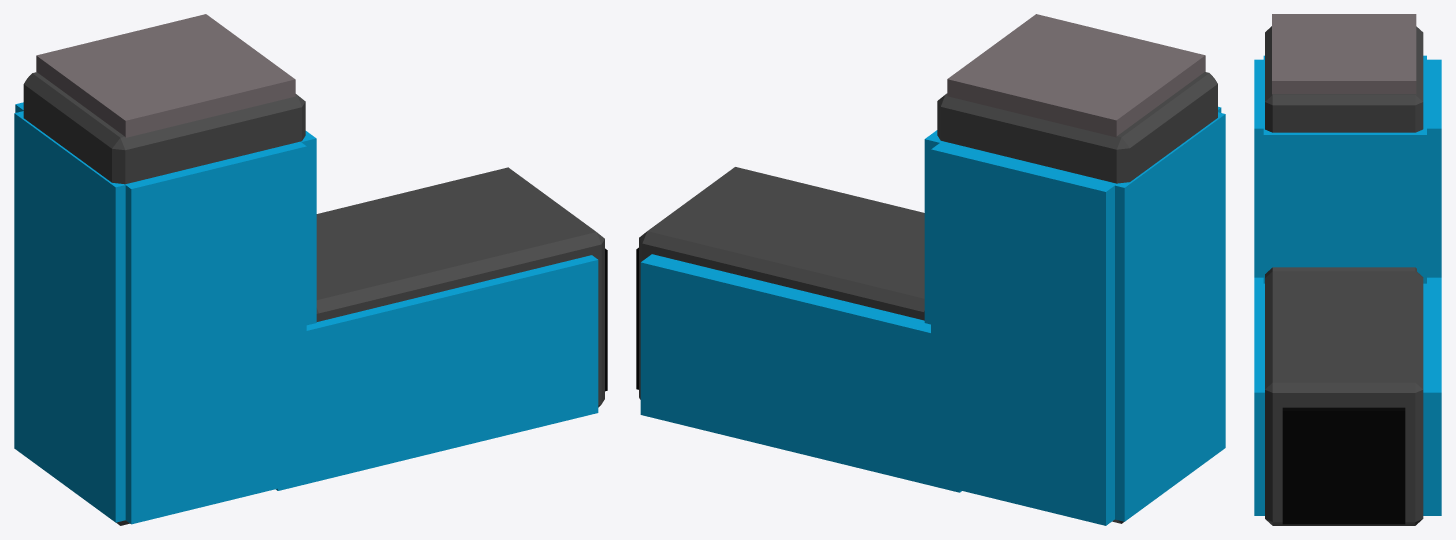
File: Building4.fbx
3 renders of one model, left to right at view 1: azimuth 30°, elevation 25°; view 2: azimuth 150°, elevation 25°; view 3: azimuth 270°, elevation 25°, orthographic. The views are drawn at different scales.
Visible parts, largest first — view 1: Cube.001, Cube.003, Cube, Cube.002, Cube.005; view 2: Cube.001, Cube.003, Cube, Cube.002, Cube.005; view 3: Cube, Cube.002, Cube.004, Cube.005, Cube.003, Cube.001.
Boxes of the visible parts, x1,y1,x2,y2 form: Cube.001: [15, 102, 306, 524]; Cube.003: [276, 255, 598, 490]; Cube: [23, 72, 604, 525]; Cube.002: [14, 111, 316, 522]; Cube.005: [36, 14, 295, 137]; Cube.001: [931, 106, 1221, 525]; Cube.003: [640, 254, 961, 492]; Cube: [639, 72, 1217, 523]; Cube.002: [924, 112, 1225, 521]; Cube.005: [947, 14, 1205, 137]; Cube: [1265, 26, 1423, 525]; Cube.002: [1263, 55, 1426, 283]; Cube.004: [1282, 407, 1405, 524]; Cube.005: [1272, 14, 1416, 94]; Cube.003: [1254, 277, 1441, 515]; Cube.001: [1254, 59, 1441, 277].
Bounding box in the file's own units: 593 × 455 × 236.
